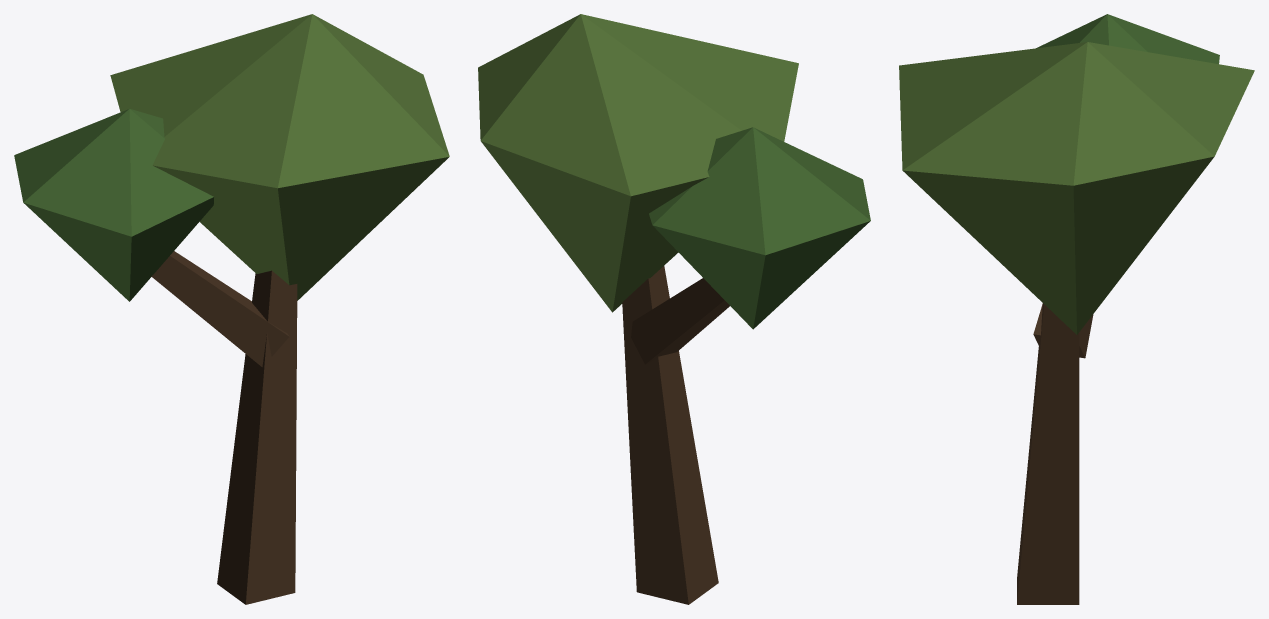
The model's file is sapling.glb.
3 renders of one model, left to right at view 1: azimuth 30°, elevation 25°; view 2: azimuth 150°, elevation 25°; view 3: azimuth 270°, elevation 25°, orthographic. The views are drawn at different scales.
Visible parts, largest first — view 1: crown, crown.001, stem, shoot; view 2: crown, crown.001, stem, shoot; view 3: crown, stem, crown.001, shoot.
Boxes of the visible parts, x1,y1,x2,y2 form: crown: (110,14,449,300); crown.001: (14,108,213,301); stem: (217,270,297,604); shoot: (151,251,289,366); crown: (478,14,798,312); crown.001: (649,127,870,329); stem: (622,266,718,604); shoot: (631,278,729,364); crown: (899,42,1254,334); stem: (1017,303,1079,604); crown.001: (1036,14,1219,64); shoot: (1033,303,1093,358).
Bounding box in the file's own units: 17.19 × 23 × 12.59.
